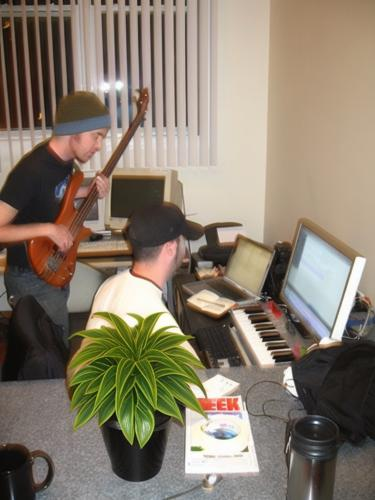person: (2, 91, 111, 350), (90, 202, 207, 375)
person/hand: (175, 331, 208, 356), (45, 224, 73, 250), (88, 171, 111, 198)
person/head: (126, 203, 186, 276), (52, 92, 111, 163)
pottedplant: (68, 312, 207, 481)
tvmonitor: (280, 218, 365, 346), (104, 167, 185, 232), (72, 170, 108, 231)
